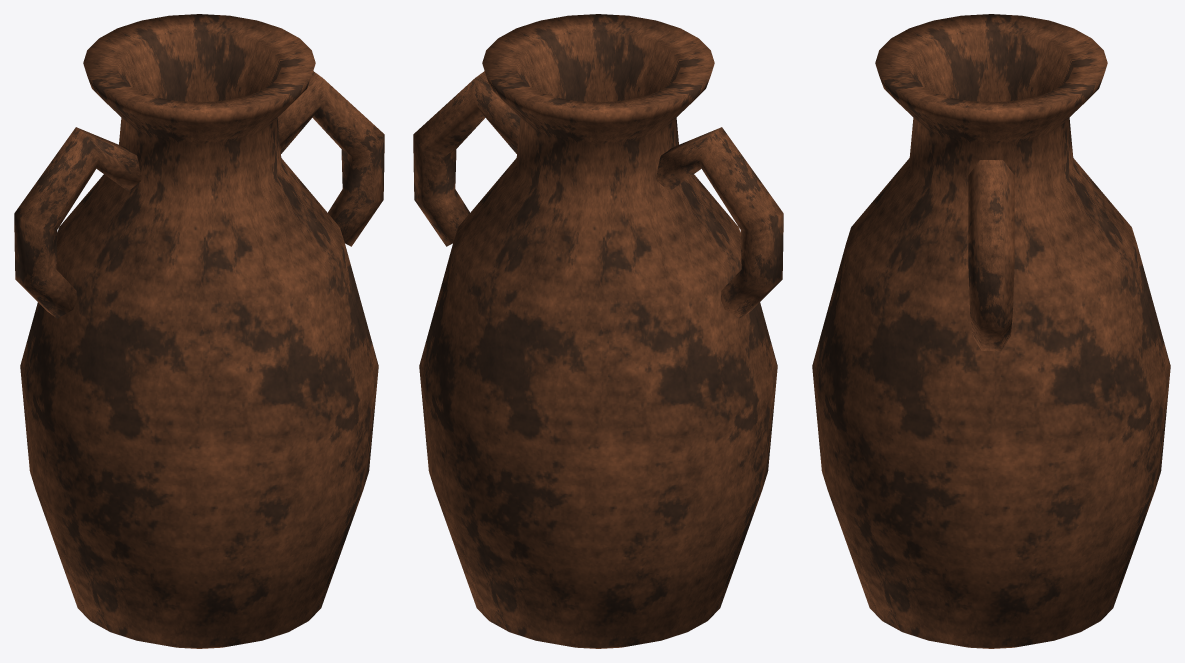
File: Pot_B.glb
The picture shows the model from 3 angles, left to right: view 1: azimuth 30°, elevation 25°; view 2: azimuth 150°, elevation 25°; view 3: azimuth 270°, elevation 25°; orthographic projection.
Visible parts, largest first — view 1: Pot_B__Clay; view 2: Pot_B__Clay; view 3: Pot_B__Clay.
Part boxes in pixels (x1,y1,x2,y2): Pot_B__Clay: [14, 14, 384, 648]; Pot_B__Clay: [413, 14, 783, 648]; Pot_B__Clay: [812, 14, 1170, 648].
Bounding box in the file's own units: 4.28 × 6.25 × 3.7.
Materials: 1 (1 with a texture image).
